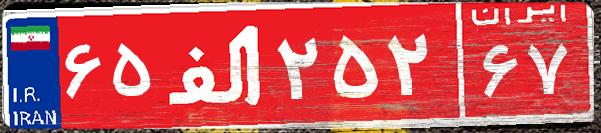2: (385, 28, 445, 110), (273, 28, 330, 110)
5: (330, 28, 385, 110), (110, 28, 158, 105)
6: (57, 26, 110, 107), (475, 38, 525, 113)
7: (525, 38, 570, 115)
الف: (158, 15, 273, 115)
